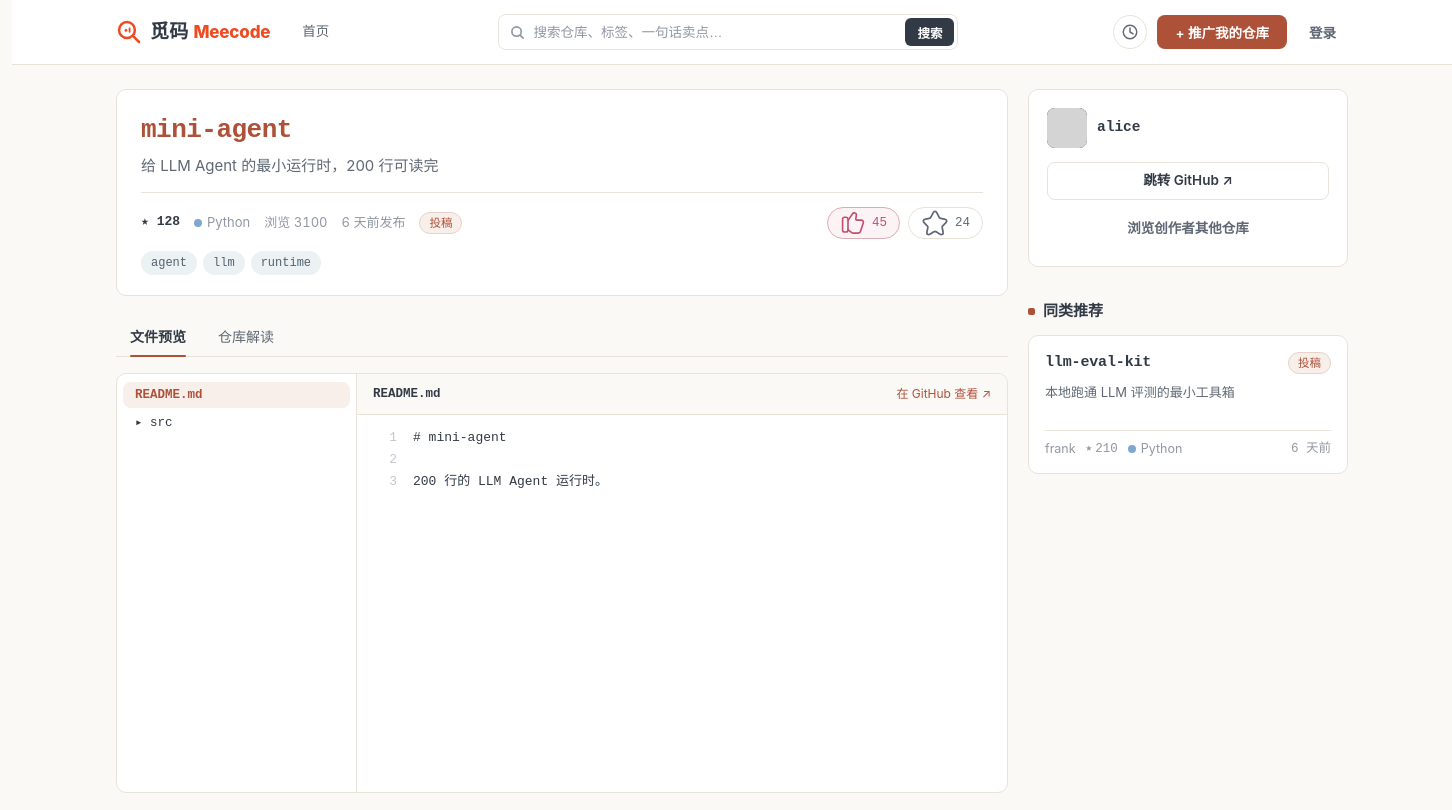
RepoPage › tab 切换写入 URL
This screenshot has width=1452, height=810.
Click the tab "仓库解读" at coordinates (246, 336), box [204,316,288,356]
(page scrolled)
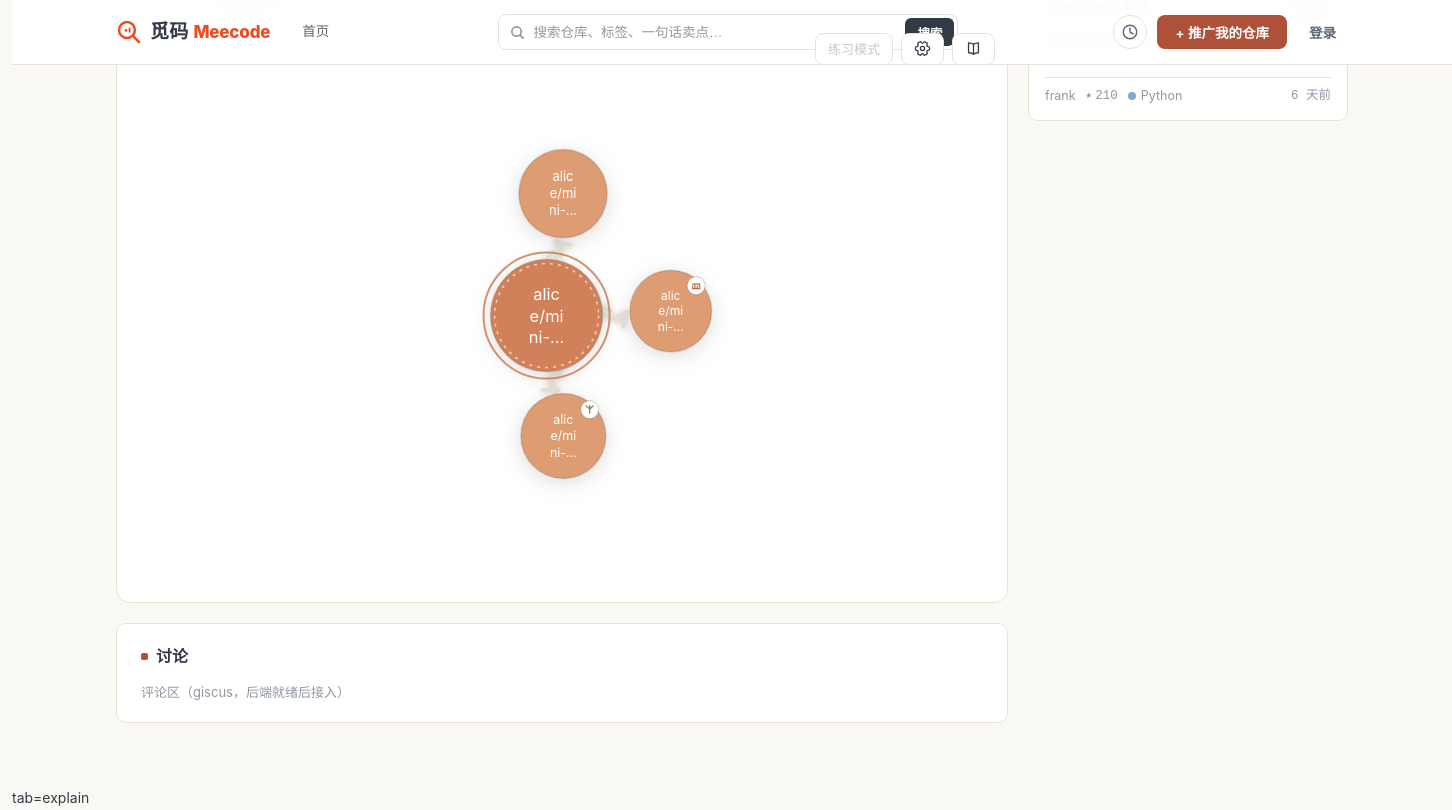
Check: the text with test id "params" reads "tab=explain", box [12,789,89,806]
